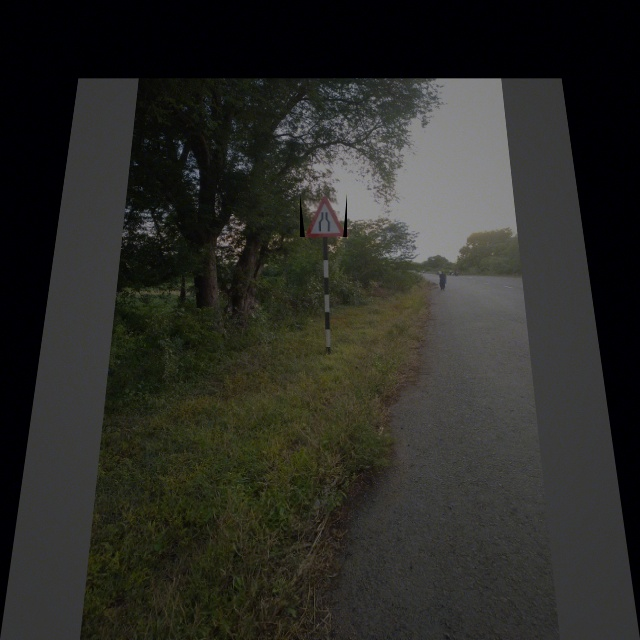Narrow_Road_Ahead: (300, 193, 347, 237)
